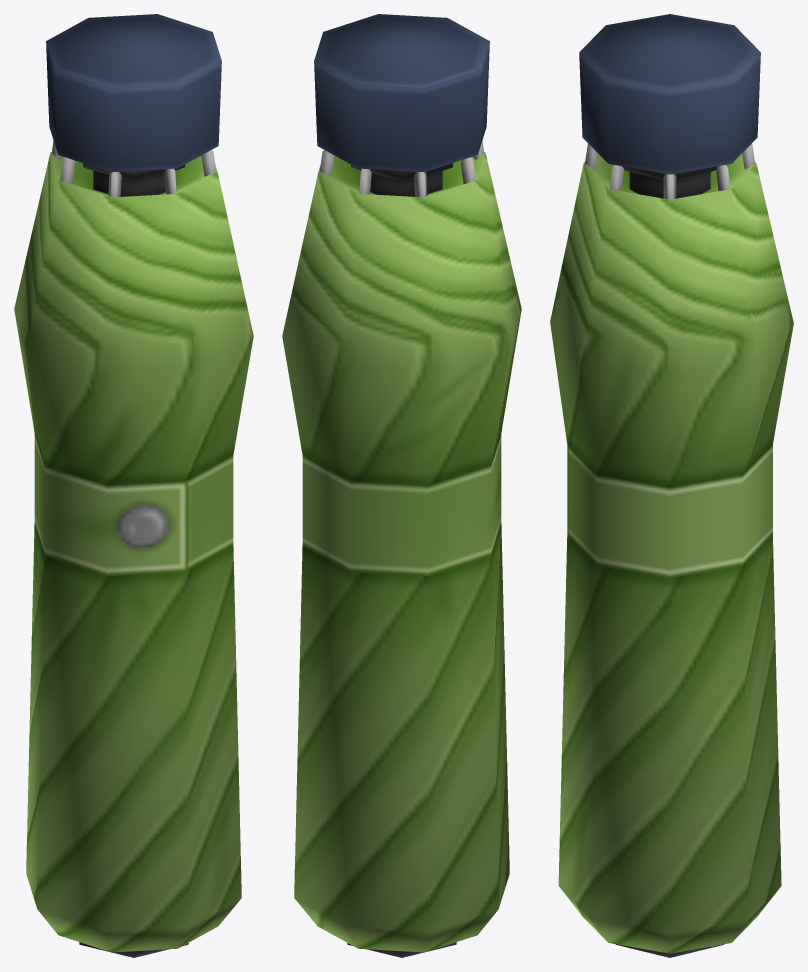
File: set_foldingumbrella_02.fbx
3 renders of one model, left to right at view 1: azimuth 30°, elevation 25°; view 2: azimuth 150°, elevation 25°; view 3: azimuth 270°, elevation 25°, orthographic.
Parts seen in each view (by area): view 1: foldingumbrella_02, handle_02; view 2: foldingumbrella_02, handle_02; view 3: foldingumbrella_02, handle_02.
Boxes of the visible parts, x1,y1,x2,y2 form: foldingumbrella_02: (14, 140, 253, 957); handle_02: (46, 14, 221, 172); foldingumbrella_02: (282, 140, 521, 957); handle_02: (314, 14, 489, 172); foldingumbrella_02: (550, 143, 793, 957); handle_02: (579, 14, 760, 174).
Bounding box in the file's own units: 5.4 × 21.37 × 5.31.
